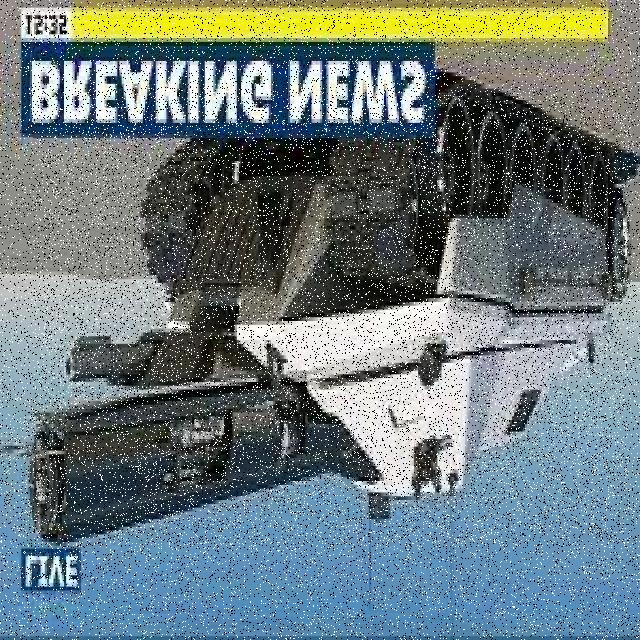MIL_MBT: (33, 87, 630, 547)
